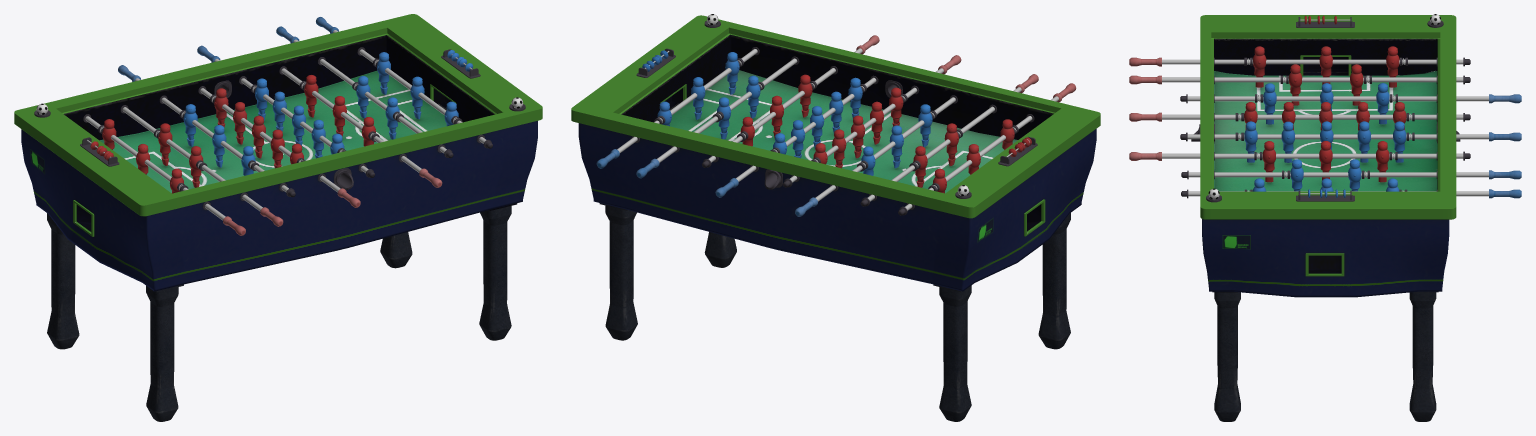
File: foosball_table.glb
The picture shows the model from 3 angles, left to right: view 1: azimuth 30°, elevation 25°; view 2: azimuth 150°, elevation 25°; view 3: azimuth 270°, elevation 25°; orthographic projection.
Visible parts, largest first — view 1: Ball NEw.002; view 2: Ball NEw.002; view 3: Ball NEw.002.
Part boxes in pixels (x1,y1,x2,y2): Ball NEw.002: [14, 14, 542, 421]; Ball NEw.002: [571, 14, 1100, 421]; Ball NEw.002: [1129, 14, 1521, 421].
Bounding box in the file's own units: 368 × 210 × 315.
Materials: 1 (1 with a texture image).
